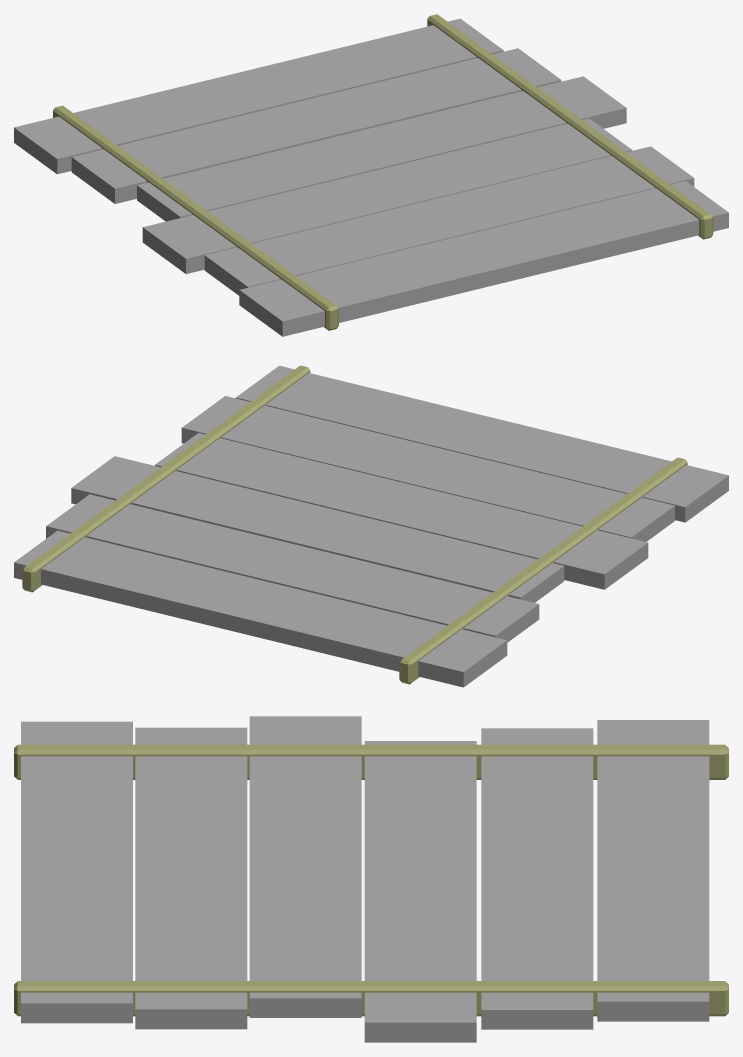
Rendered from Bridge.fbx.
3 renders of one model, top to bottom at view 1: azimuth 30°, elevation 25°; view 2: azimuth 150°, elevation 25°; view 3: azimuth 270°, elevation 25°, orthographic. The views are drawn at different scales.
Parts seen in each view (by area): view 1: pasted__pCube2; view 2: pasted__pCube2; view 3: pasted__pCube2.
Part boxes in pixels (x1,y1,x2,y2): pasted__pCube2: (14,14,728,336); pasted__pCube2: (14,365,728,687); pasted__pCube2: (14,716,728,1042).
Size of the model in its own units: 1.93 by 0.0893 by 1.91.
